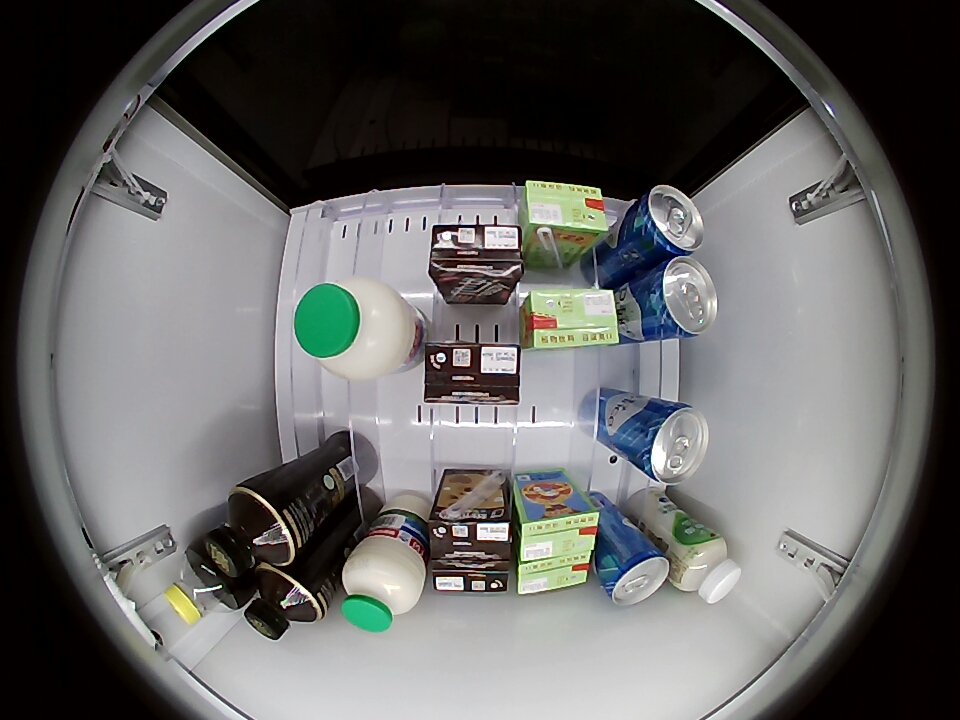baishikele: (165, 546, 242, 624)
liziyuan: (295, 277, 413, 381), (340, 534, 427, 633)
qingdaowangzi-2: (640, 256, 718, 339), (633, 401, 709, 485), (629, 185, 706, 258), (599, 540, 670, 606)
rancha-1: (201, 484, 298, 579), (244, 566, 325, 642)
wanglaoji: (520, 287, 620, 350), (521, 179, 609, 246), (514, 503, 601, 566), (515, 554, 592, 595)
weitanai2: (428, 223, 524, 292), (423, 342, 521, 404), (431, 504, 511, 562), (432, 555, 509, 594)
yousuanru: (670, 531, 741, 604)
